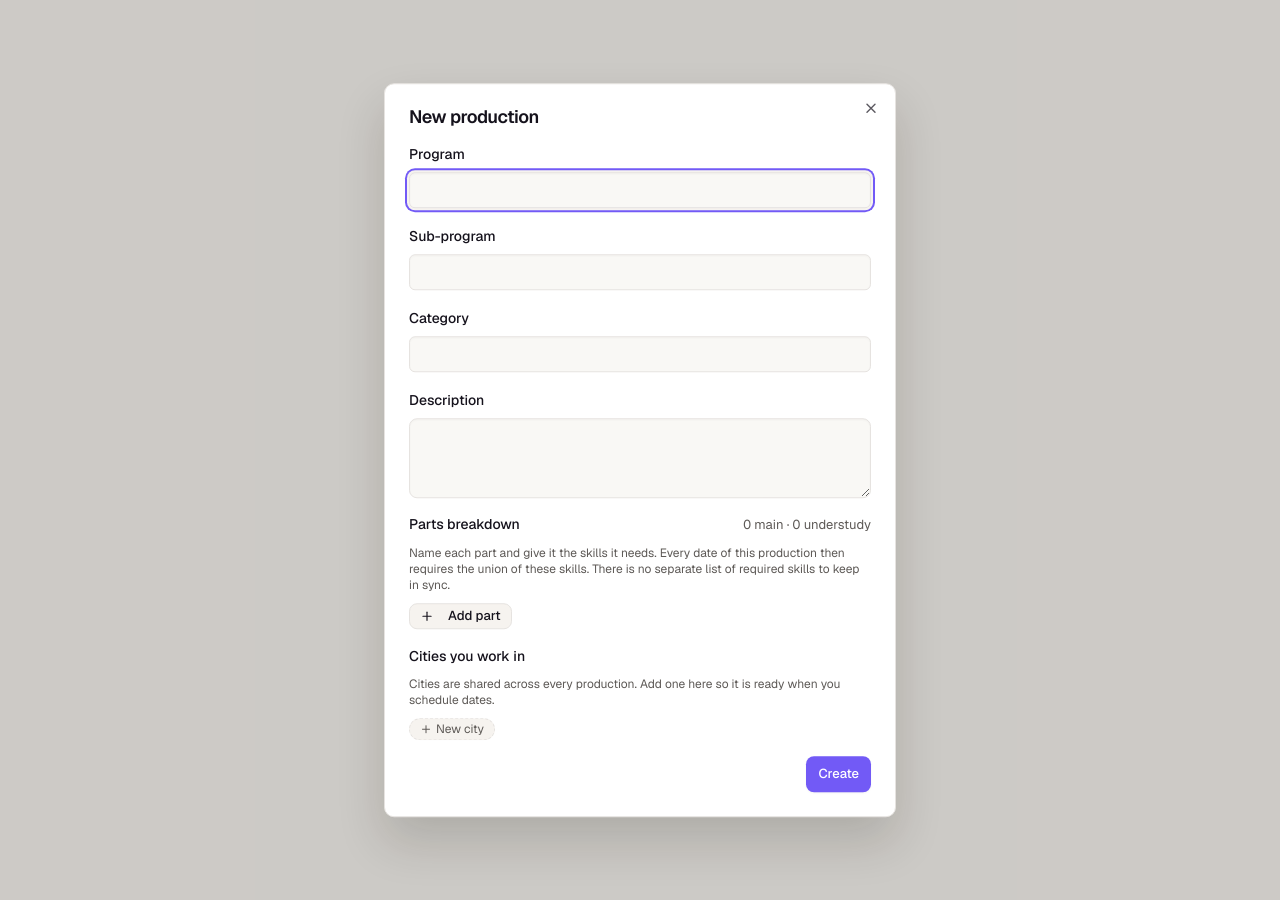
Scenario: ShowFormDialog › names the clash instead of failing silently when the skill name is taken
Later steps or results of the test are not shown.
What coordinates should you click on to do the following:
click the button "Add part"
I would click on:
 (460, 616)
Its box is left=409, top=603, right=512, bottom=629.
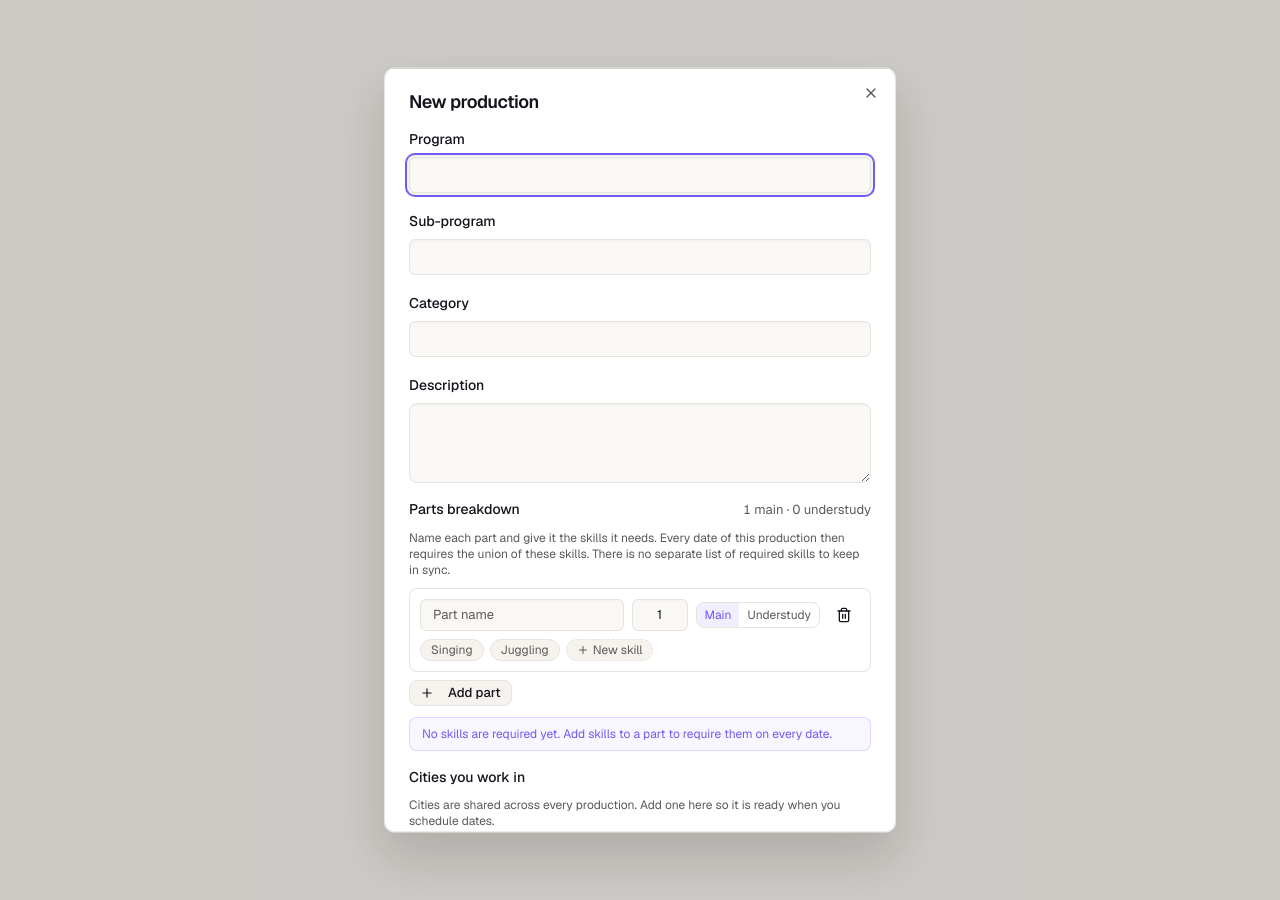
expect the button "Singing" is shown: met, box left=420, top=638, right=484, bottom=660
